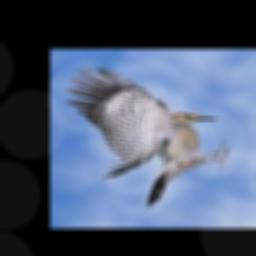Woodpecker: (65, 69, 231, 208)
